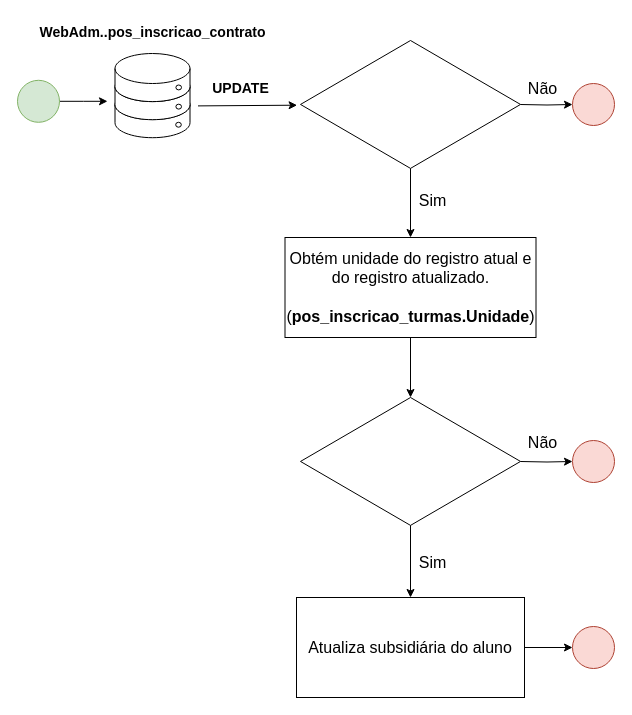
Image size: 632x715. Some labels were removed from this diagram. The shapes that lost their labels are listed below. From the top down, each one's centre as x and y in pixels, then its label:
(x=410, y=104): "Turma" mudou?
(x=410, y=460): A unidade mudou?
